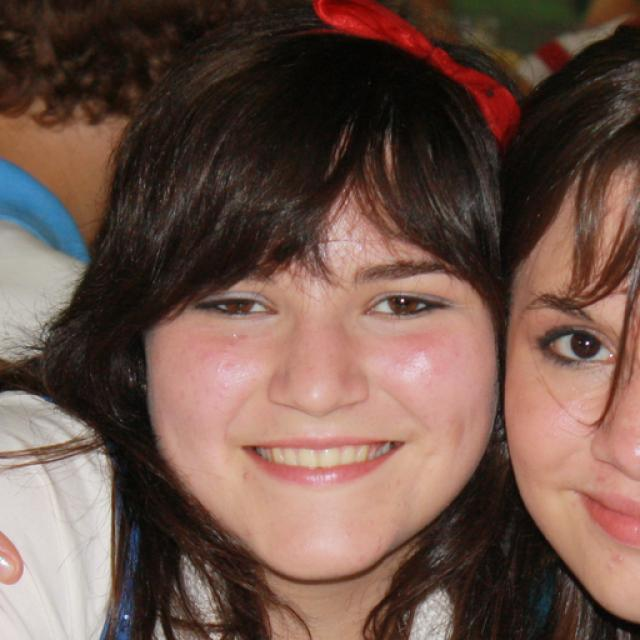happy: (145, 123, 500, 582), (505, 152, 640, 623)
